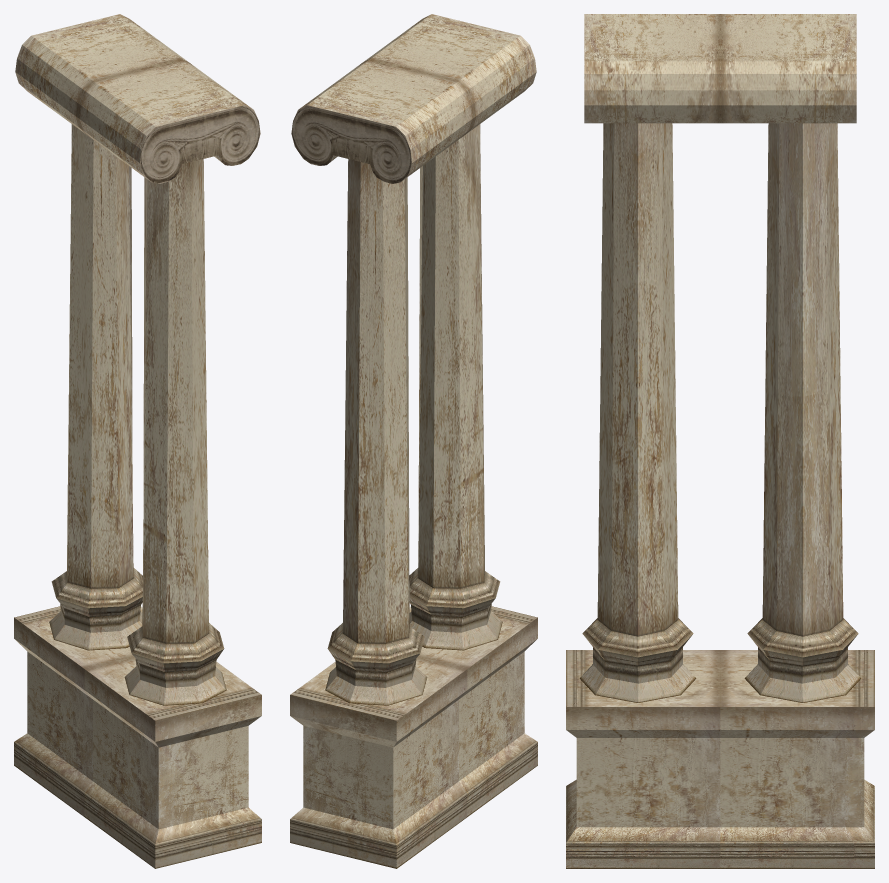
The model's file is svpergola8.dae.
3 views of the same model, side by side, from view 1: azimuth 30°, elevation 25°; view 2: azimuth 150°, elevation 25°; view 3: azimuth 270°, elevation 25° (orthographic). The views are drawn at different scales.
Parts seen in each view (by area): view 1: cube4_sep12-0; view 2: cube4_sep12-0; view 3: cube4_sep12-0.
Part boxes in pixels (x1,y1,x2,y2): cube4_sep12-0: (14, 14, 261, 868); cube4_sep12-0: (290, 14, 537, 868); cube4_sep12-0: (566, 14, 874, 868).
Size of the model in its own units: 89.53 by 520 by 181.
